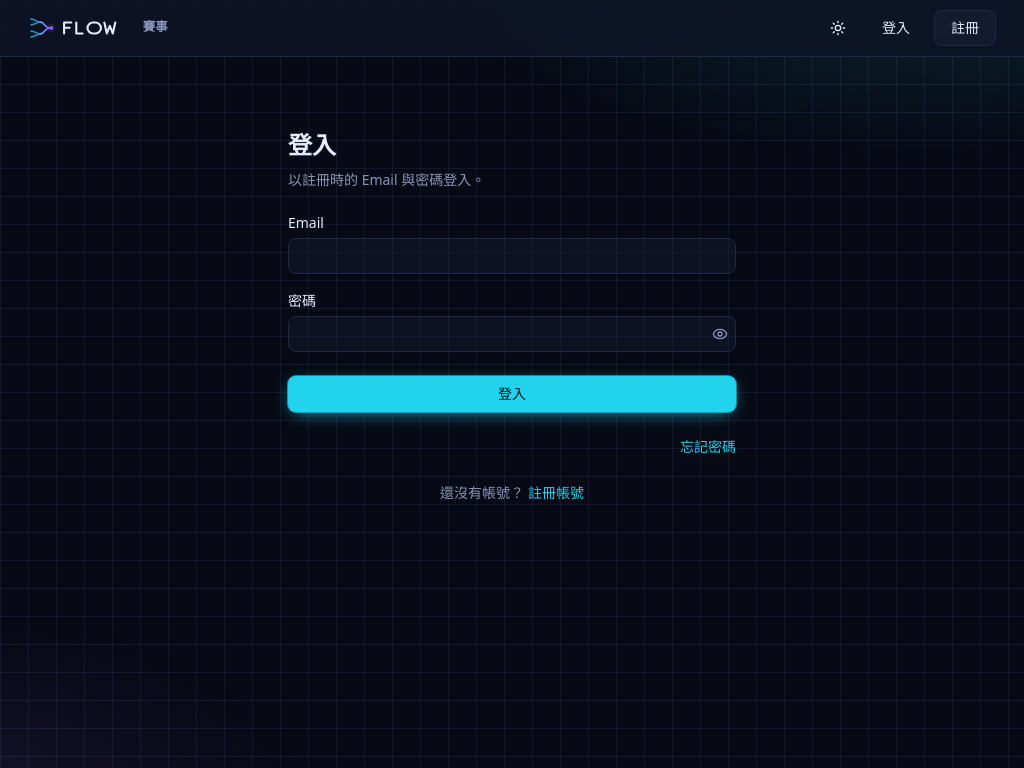
Test: S6 的「忘記密碼」 › S6 有「忘記密碼」連結，點了到 S8
What coordinates should you click on to do the following:
click the link "忘記密碼"
I would click on:
 (708, 447)
Its box is [680,436,736,458].
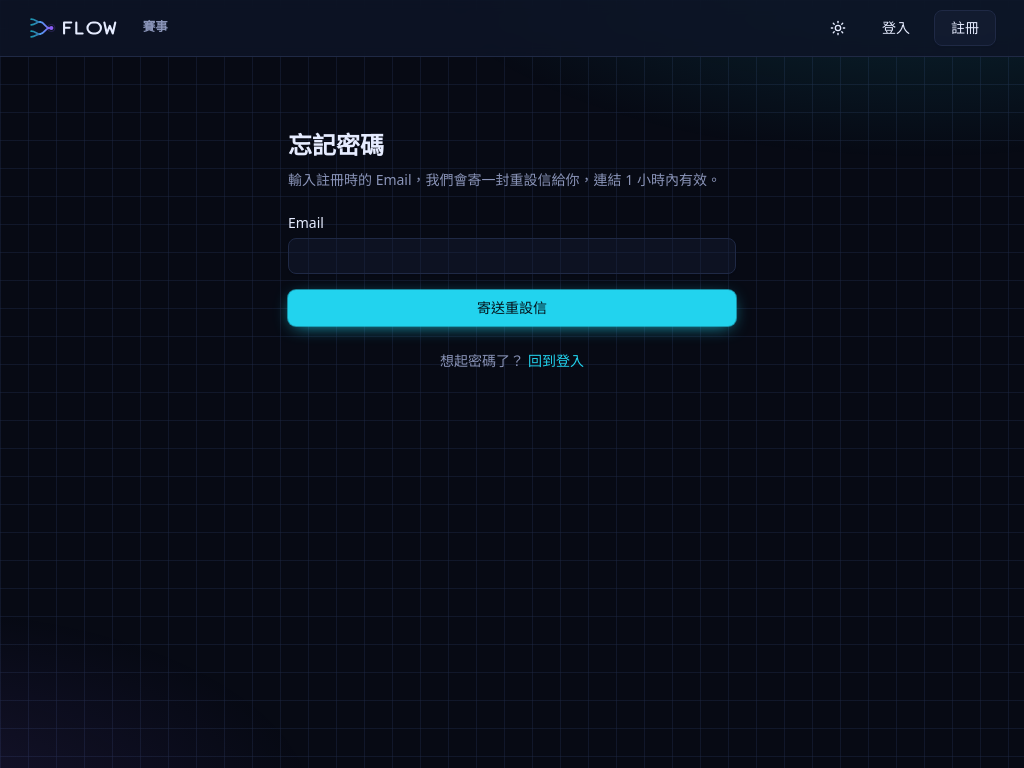
Check: the heading "忘記密碼" is shown, box [288,128,384,161]
